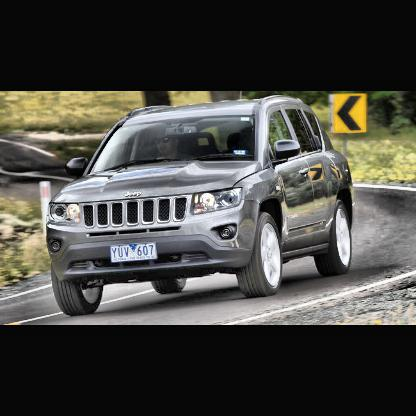Jeep Compass SUV 2012: (49, 94, 354, 316)
